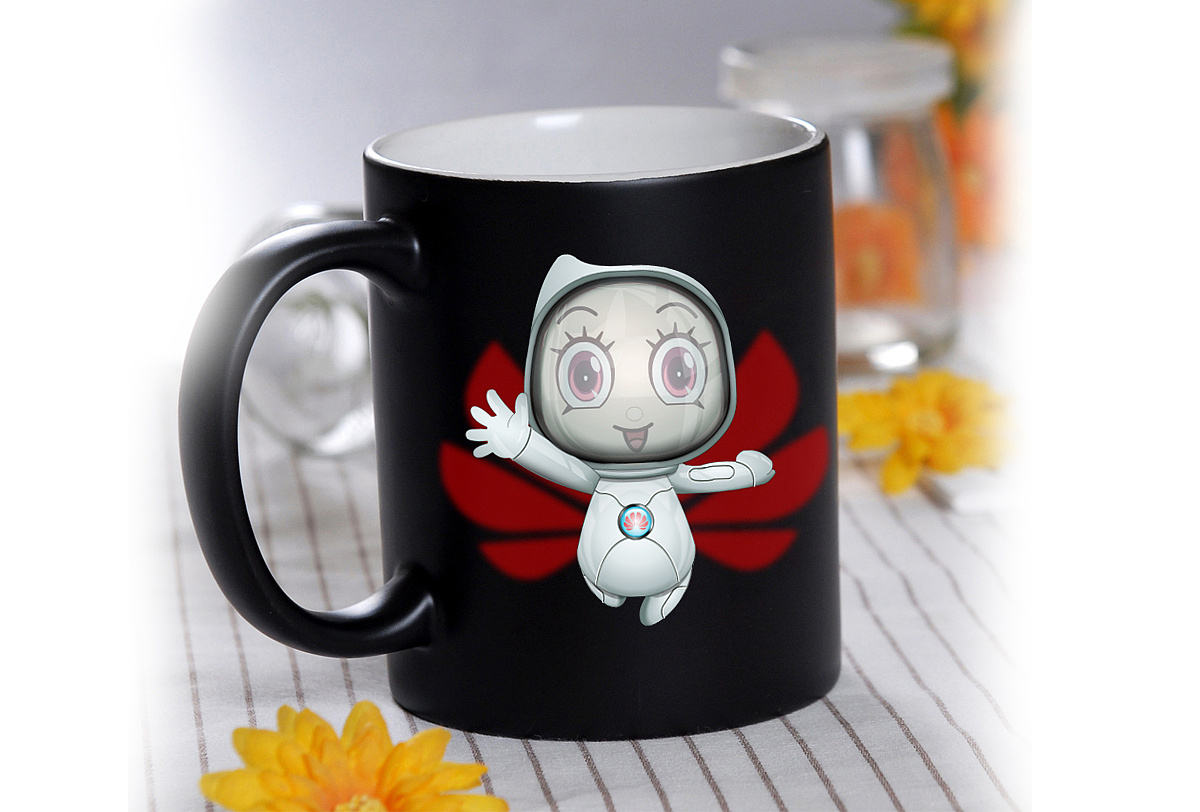cup: (174, 104, 847, 746)
